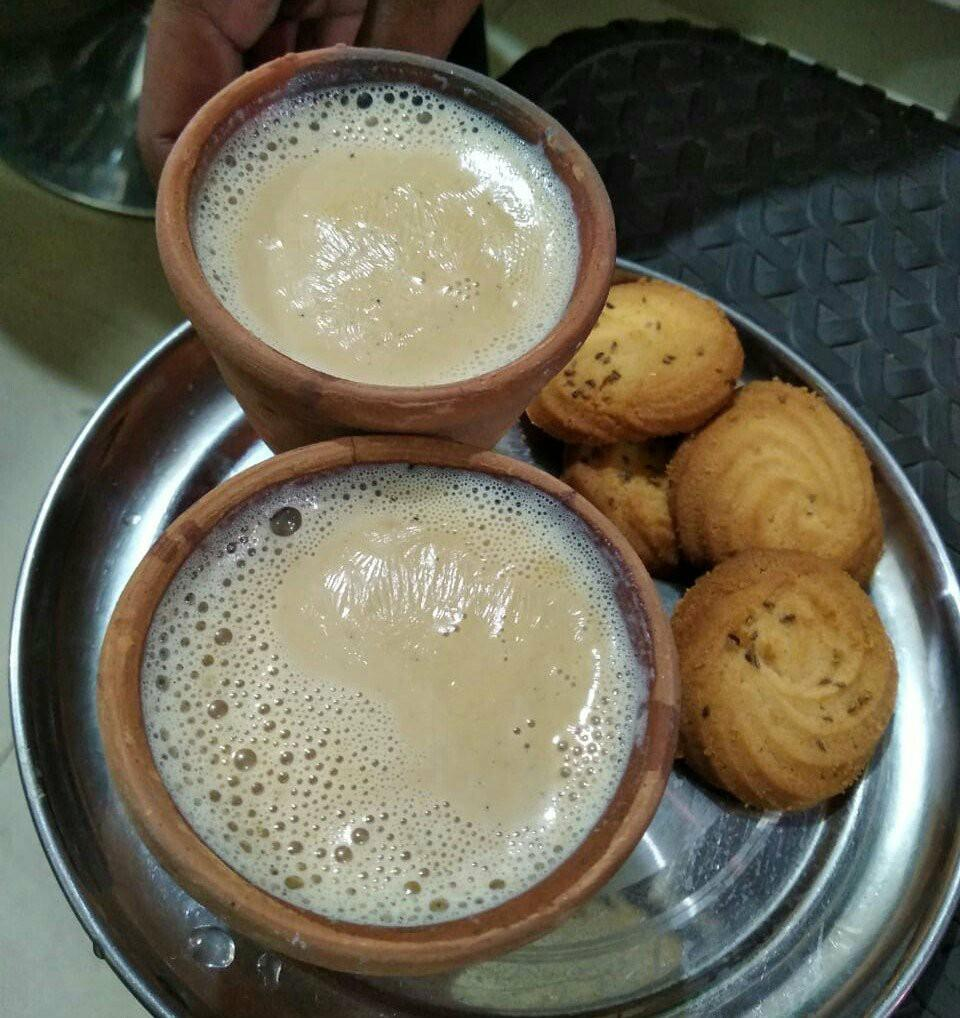Chai: (150, 468, 645, 922), (215, 82, 566, 380)
